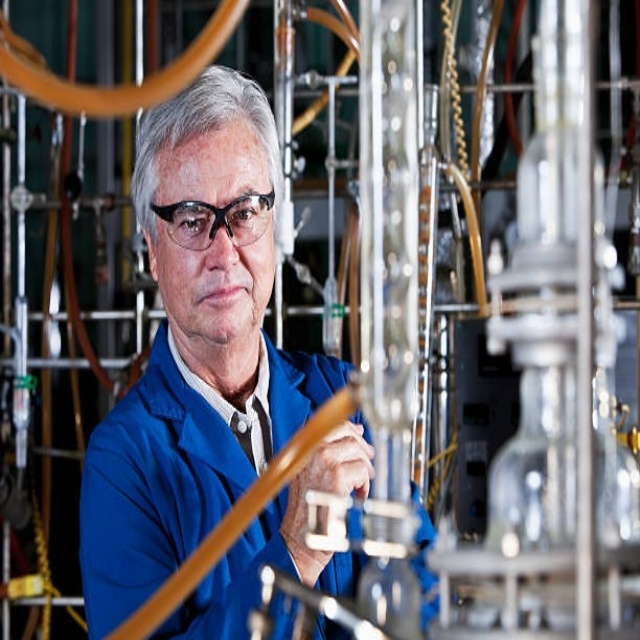Gafas: (150, 190, 277, 251)
Sin_guantes: (284, 416, 378, 565)
Sin_mascara: (186, 278, 256, 336)
